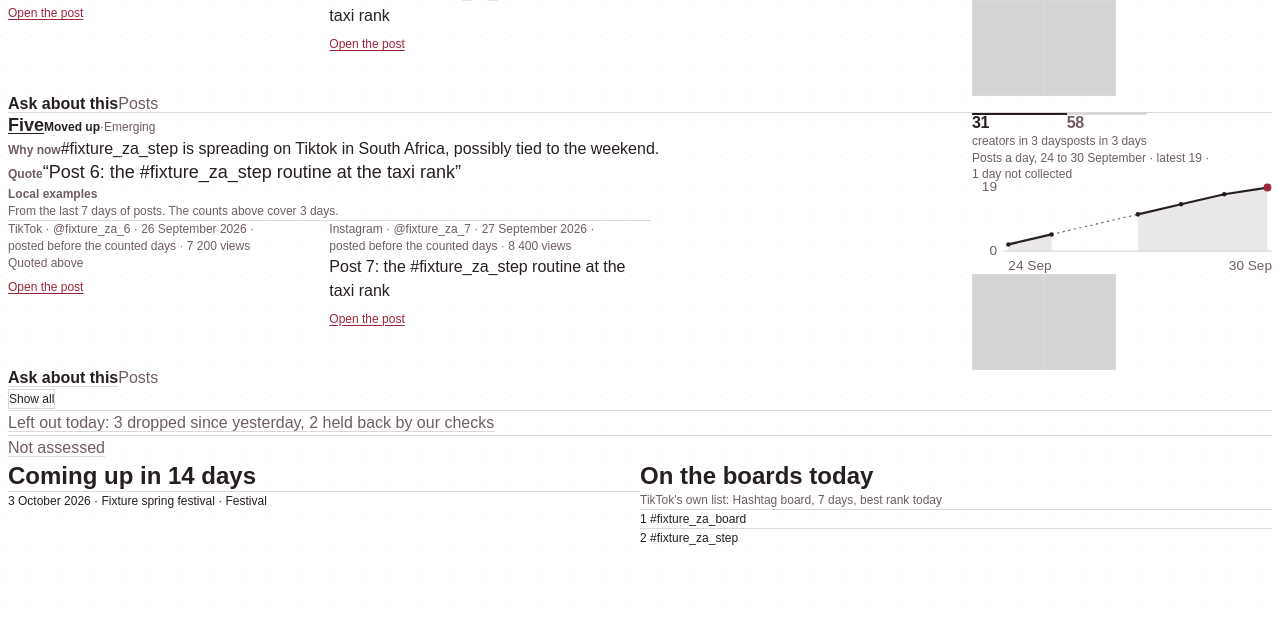
Test case: Show all expands the more cards in place
(page scrolled)
Click the button "Show all": (32,399) [8,389,55,409]
(page scrolled)
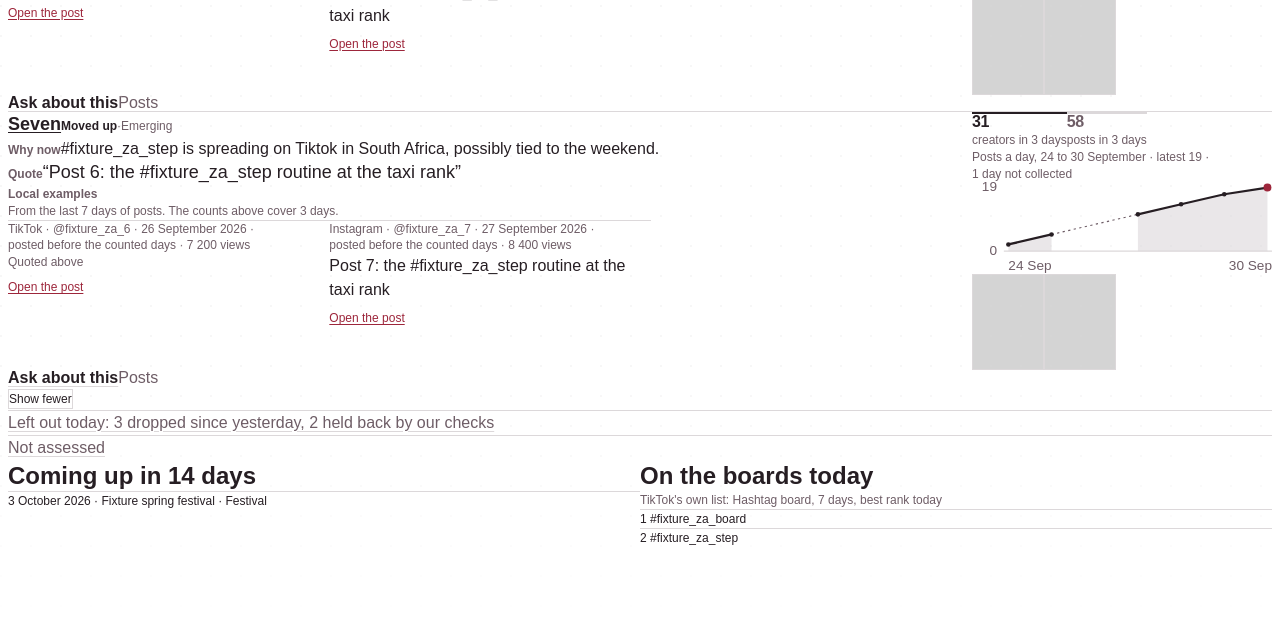
Expected: the list item that starts with "Seven" is shown, [8,111,1272,386]
Expected: the button "Show fewer" is expanded, [8,389,73,409]
